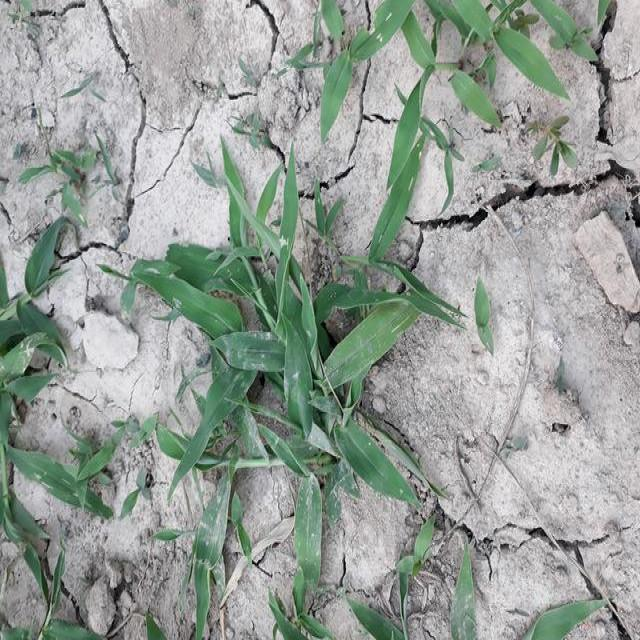weed: (190, 163, 403, 548), (2, 206, 106, 563), (321, 0, 594, 95), (32, 129, 88, 224)
